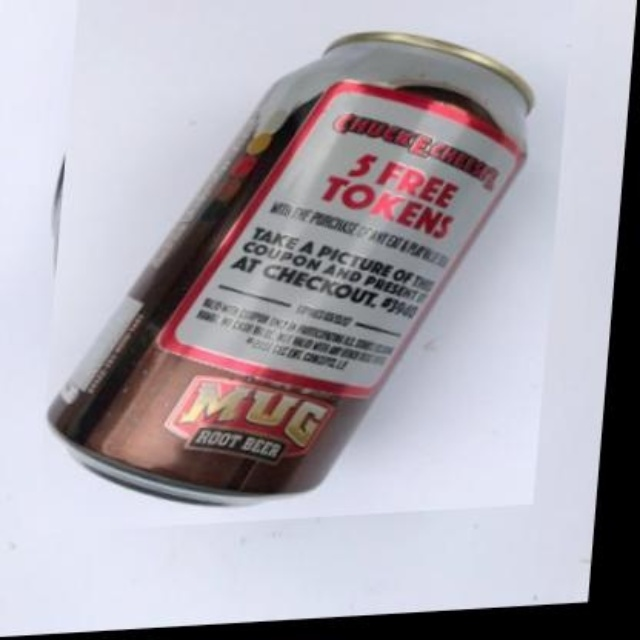trash: (49, 31, 532, 502)
